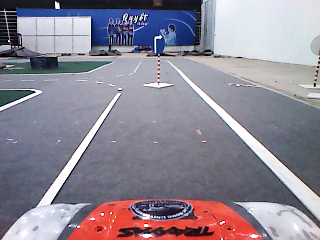turn: (149, 34, 167, 56)
